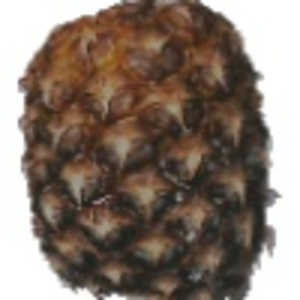abacaxi: (15, 3, 279, 296)
